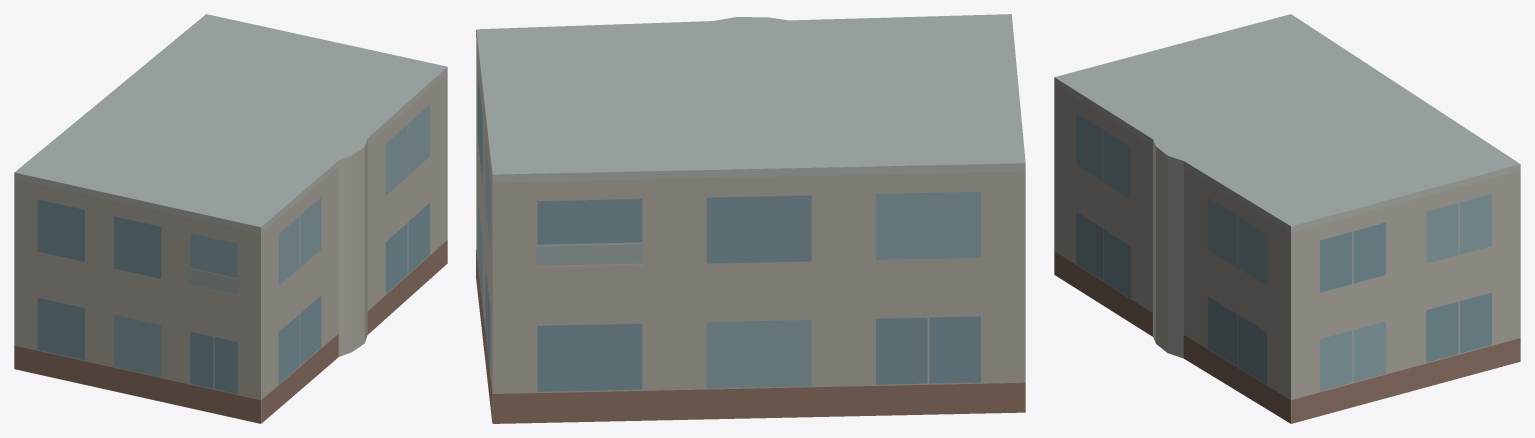
Rendered from survey-upis-32616185.glb.
The picture shows the model from 3 angles, left to right: view 1: azimuth 30°, elevation 25°; view 2: azimuth 150°, elevation 25°; view 3: azimuth 270°, elevation 25°; orthographic projection. The views are drawn at different scales.
Parts seen in each view (by area): view 1: survey-upis-32616185.tmp; view 2: survey-upis-32616185.tmp; view 3: survey-upis-32616185.tmp.
Part boxes in pixels (left/top/right/bottom): survey-upis-32616185.tmp: left=14, top=14, right=447, bottom=423; survey-upis-32616185.tmp: left=476, top=14, right=1025, bottom=423; survey-upis-32616185.tmp: left=1054, top=14, right=1520, bottom=423.
Bounding box in the file's own units: 17.54 × 7.6 × 16.28.
